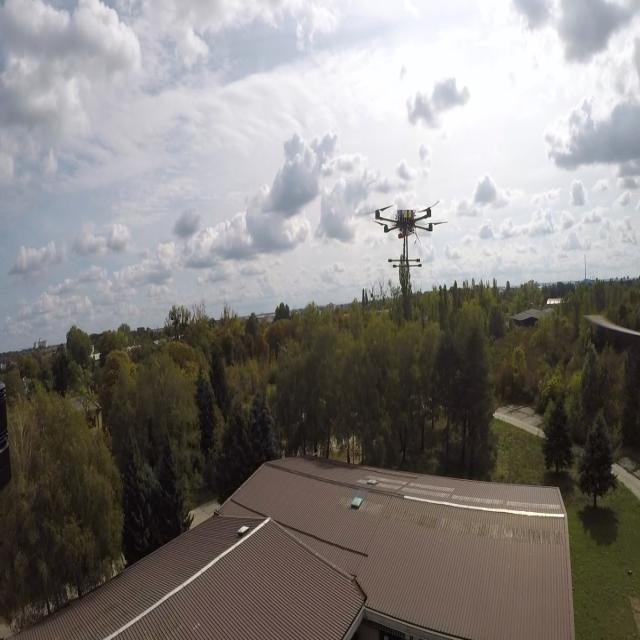UAV: (366, 195, 450, 270)
